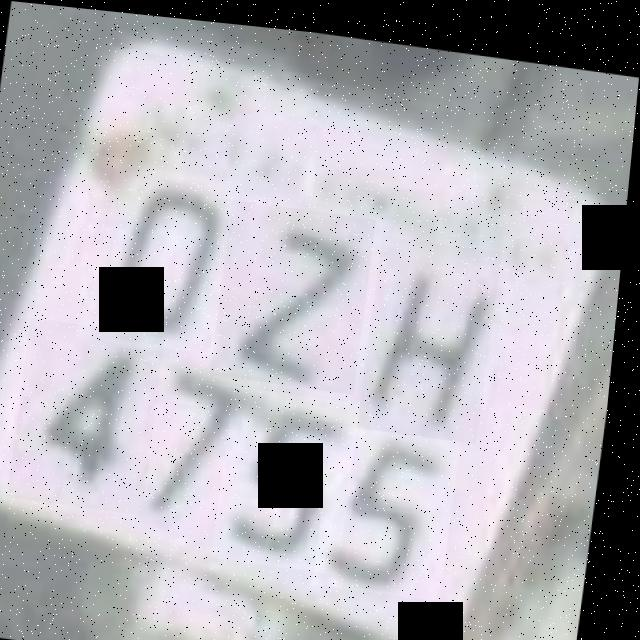4: (16, 315, 171, 511)
5: (221, 380, 367, 567), (323, 416, 468, 591)
H: (364, 226, 506, 433)
O: (99, 160, 242, 350)
Z: (216, 193, 380, 387)
